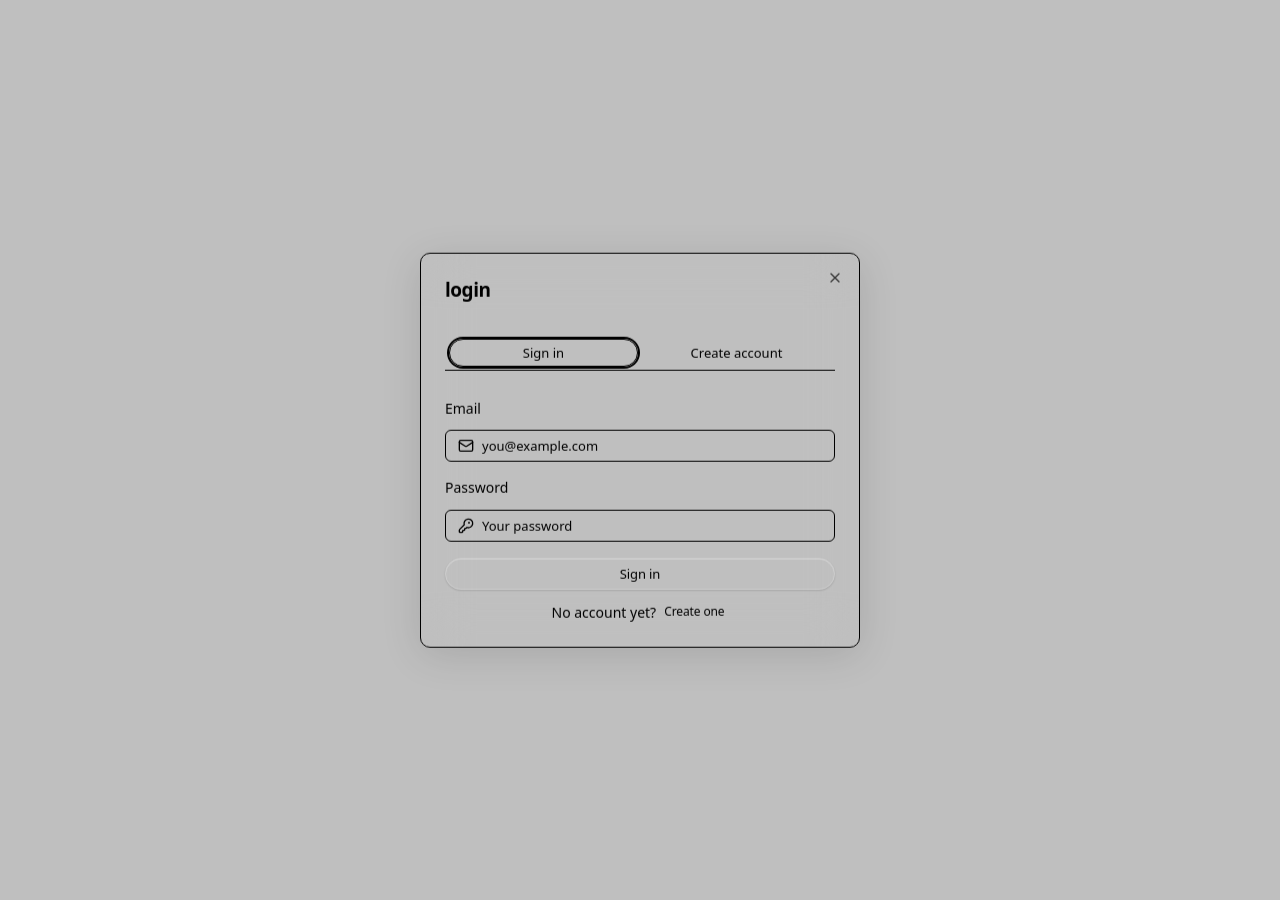
it: AuthModal › switches from sign in to create account
Click the tab "Create account" at (736, 353), box [642,339,831,367]
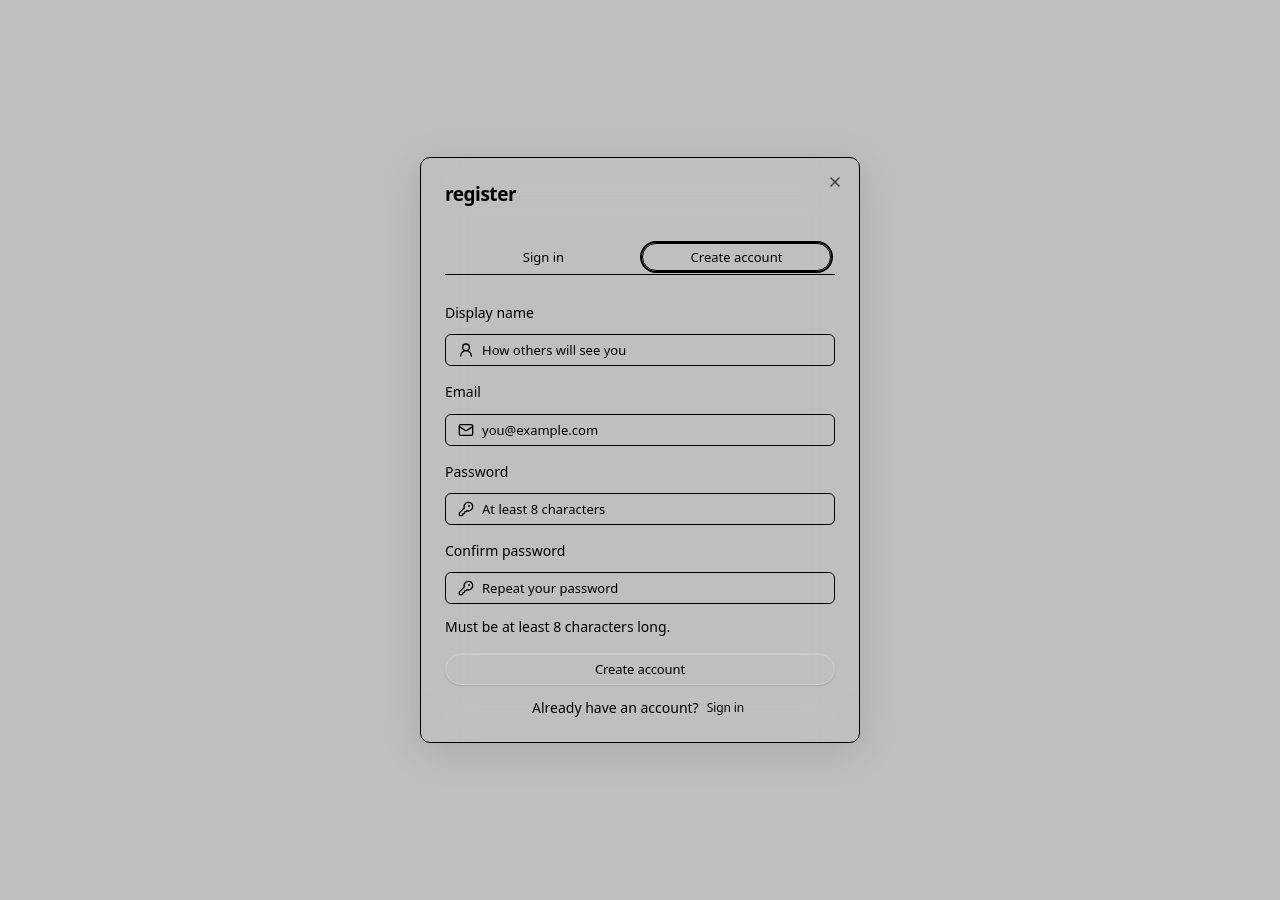
Check: the field labelled "Display name" is shown, box [474,335,834,365]
Check: the password field labelled "Confirm password" is shown, box [474,573,834,603]
